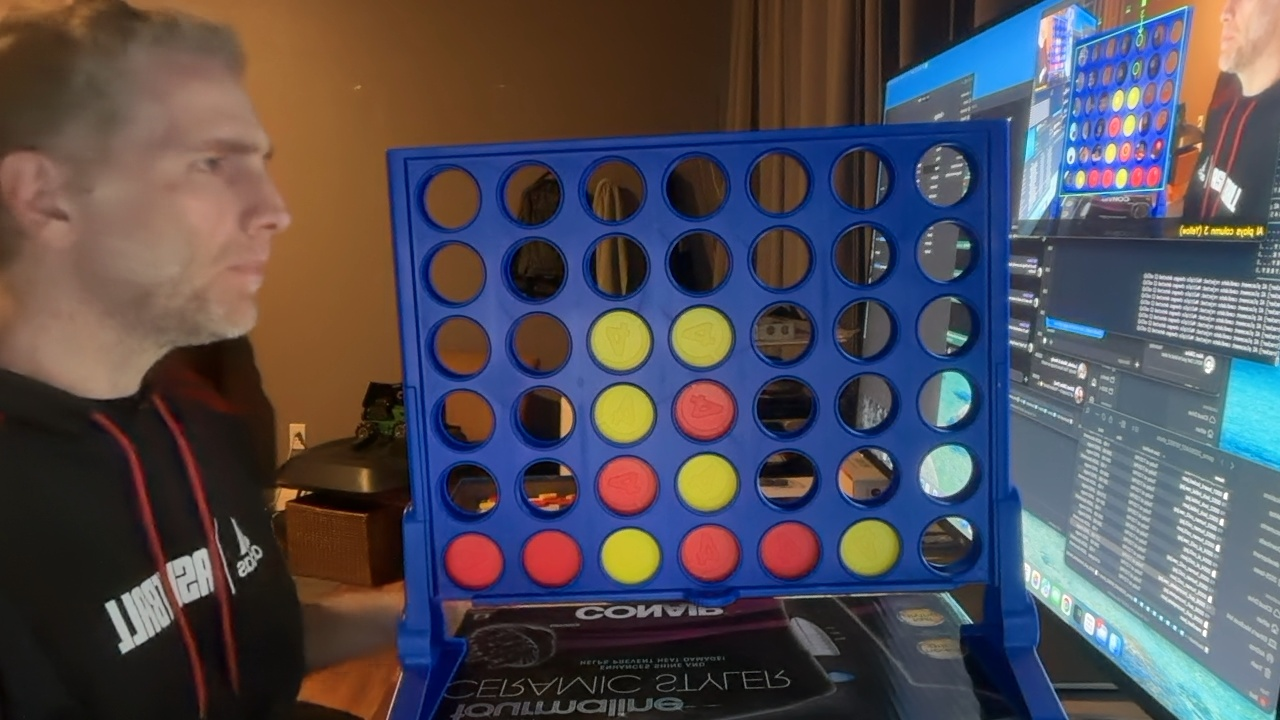yellow piece: (589, 310, 652, 371), (670, 306, 733, 367), (593, 383, 655, 444), (674, 380, 735, 441), (597, 456, 657, 515), (677, 454, 738, 512), (839, 519, 901, 576), (760, 521, 819, 579), (680, 525, 740, 582), (522, 530, 582, 587), (444, 533, 503, 590), (601, 528, 660, 584)
